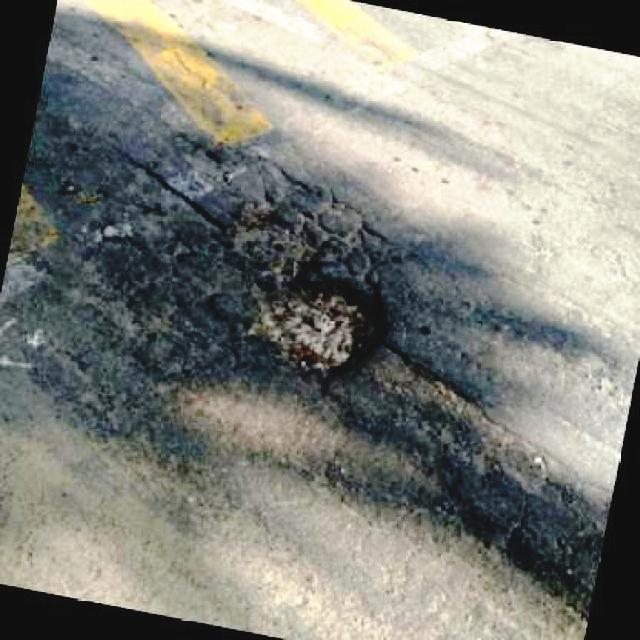pothole: (224, 202, 393, 383)
